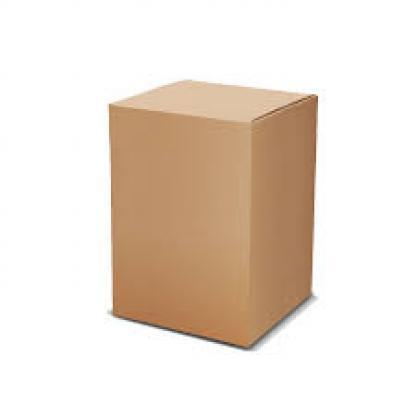box: (106, 78, 317, 346)
